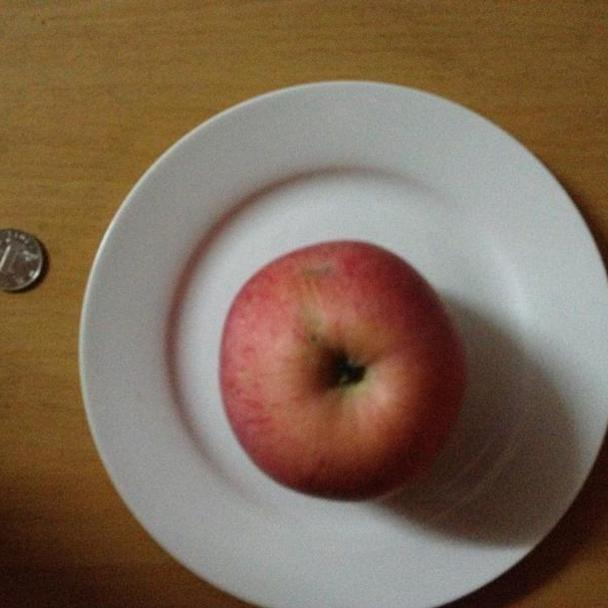apple: (219, 240, 470, 502)
